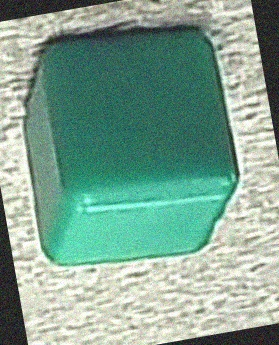green_cube: (13, 28, 254, 278)
